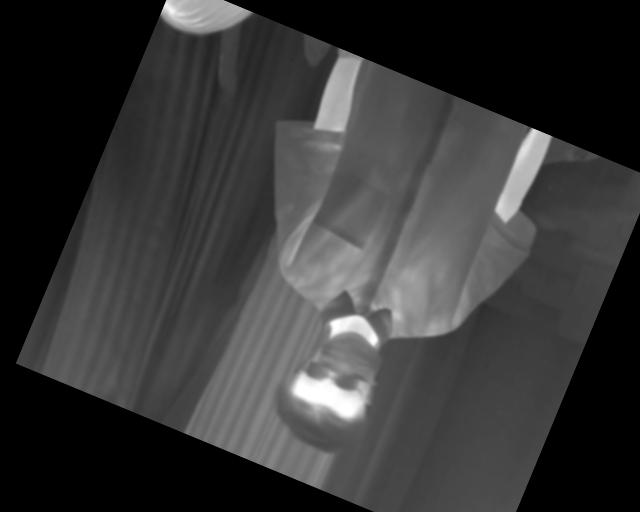face: (258, 311, 400, 466)
